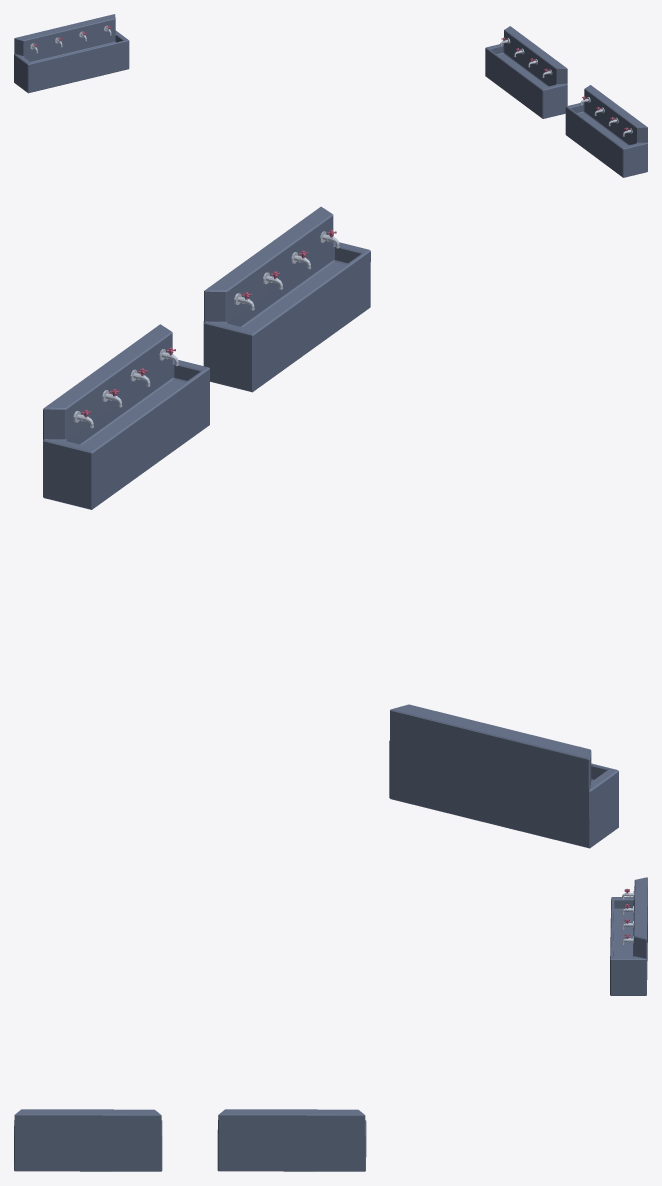
The model's file is washing_table.fbx.
The picture shows the model from 3 angles, top to bottom: view 1: azimuth 30°, elevation 25°; view 2: azimuth 150°, elevation 25°; view 3: azimuth 270°, elevation 25°; orthographic projection. The views are drawn at different scales.
Parts seen in each view (by area): view 1: sink (×3); view 2: sink (×3); view 3: sink (×3).
Part boxes in pixels (<box>): sink (×3): <box>14,14,647,177</box>; sink (×3): <box>43,206,618,848</box>; sink (×3): <box>14,877,647,1171</box>.
Bounding box in the file's own units: 63.01 × 7.04 × 70.8.
